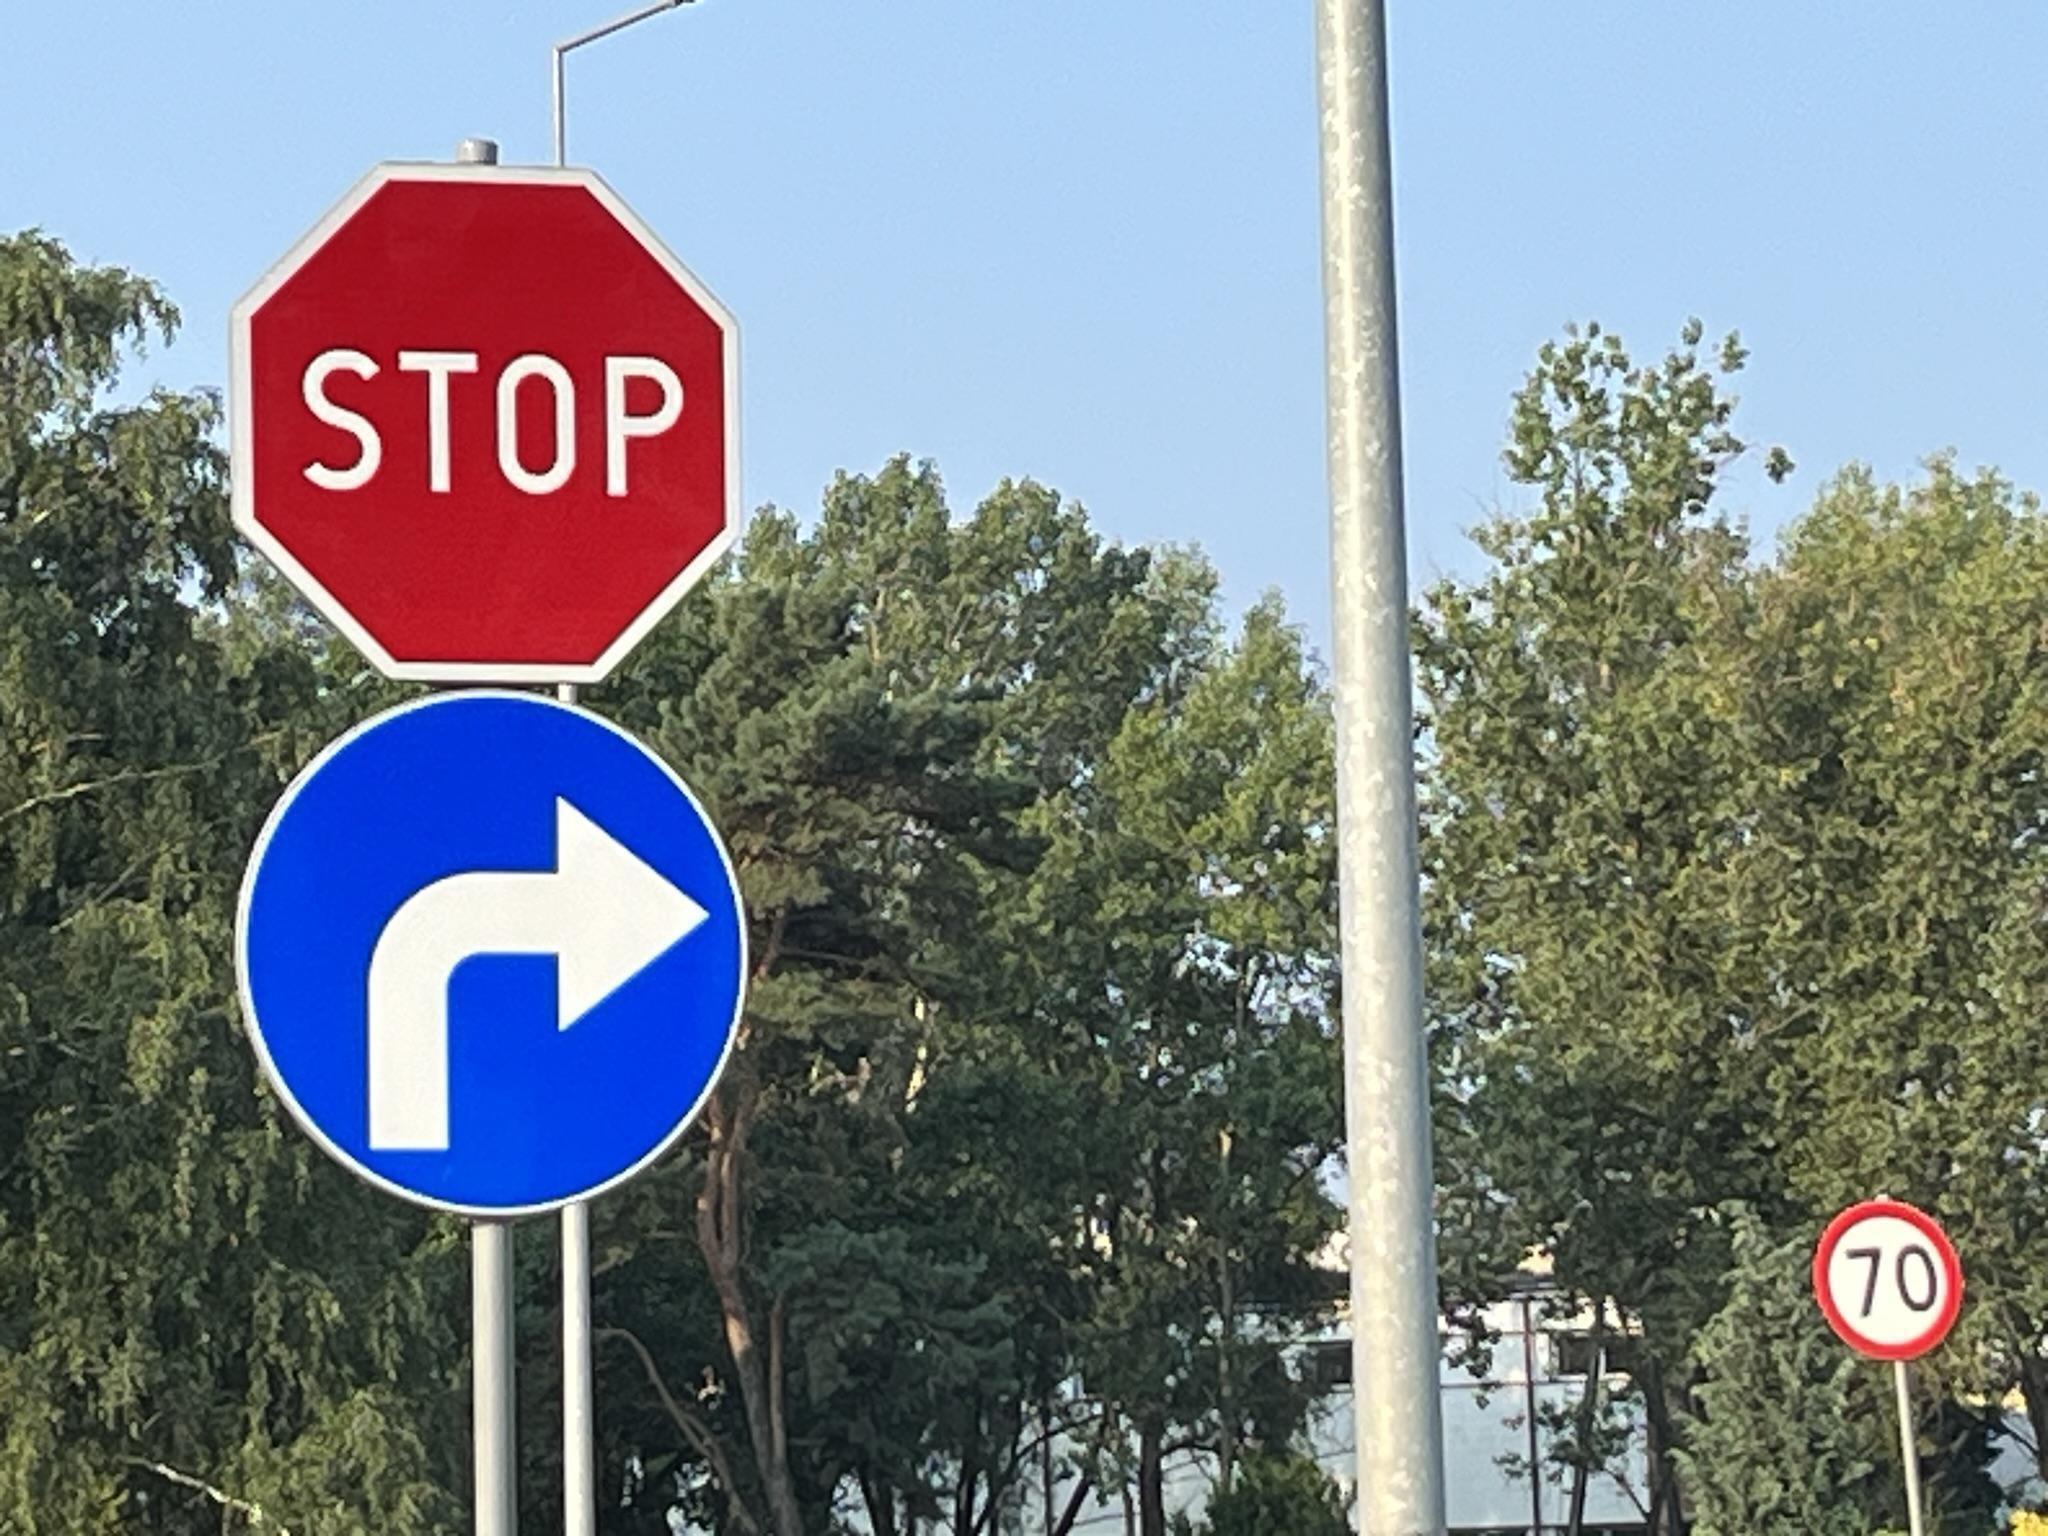mandatory: (235, 691, 750, 1223)
prohibitory: (232, 160, 742, 681), (1813, 1200, 1963, 1363)
